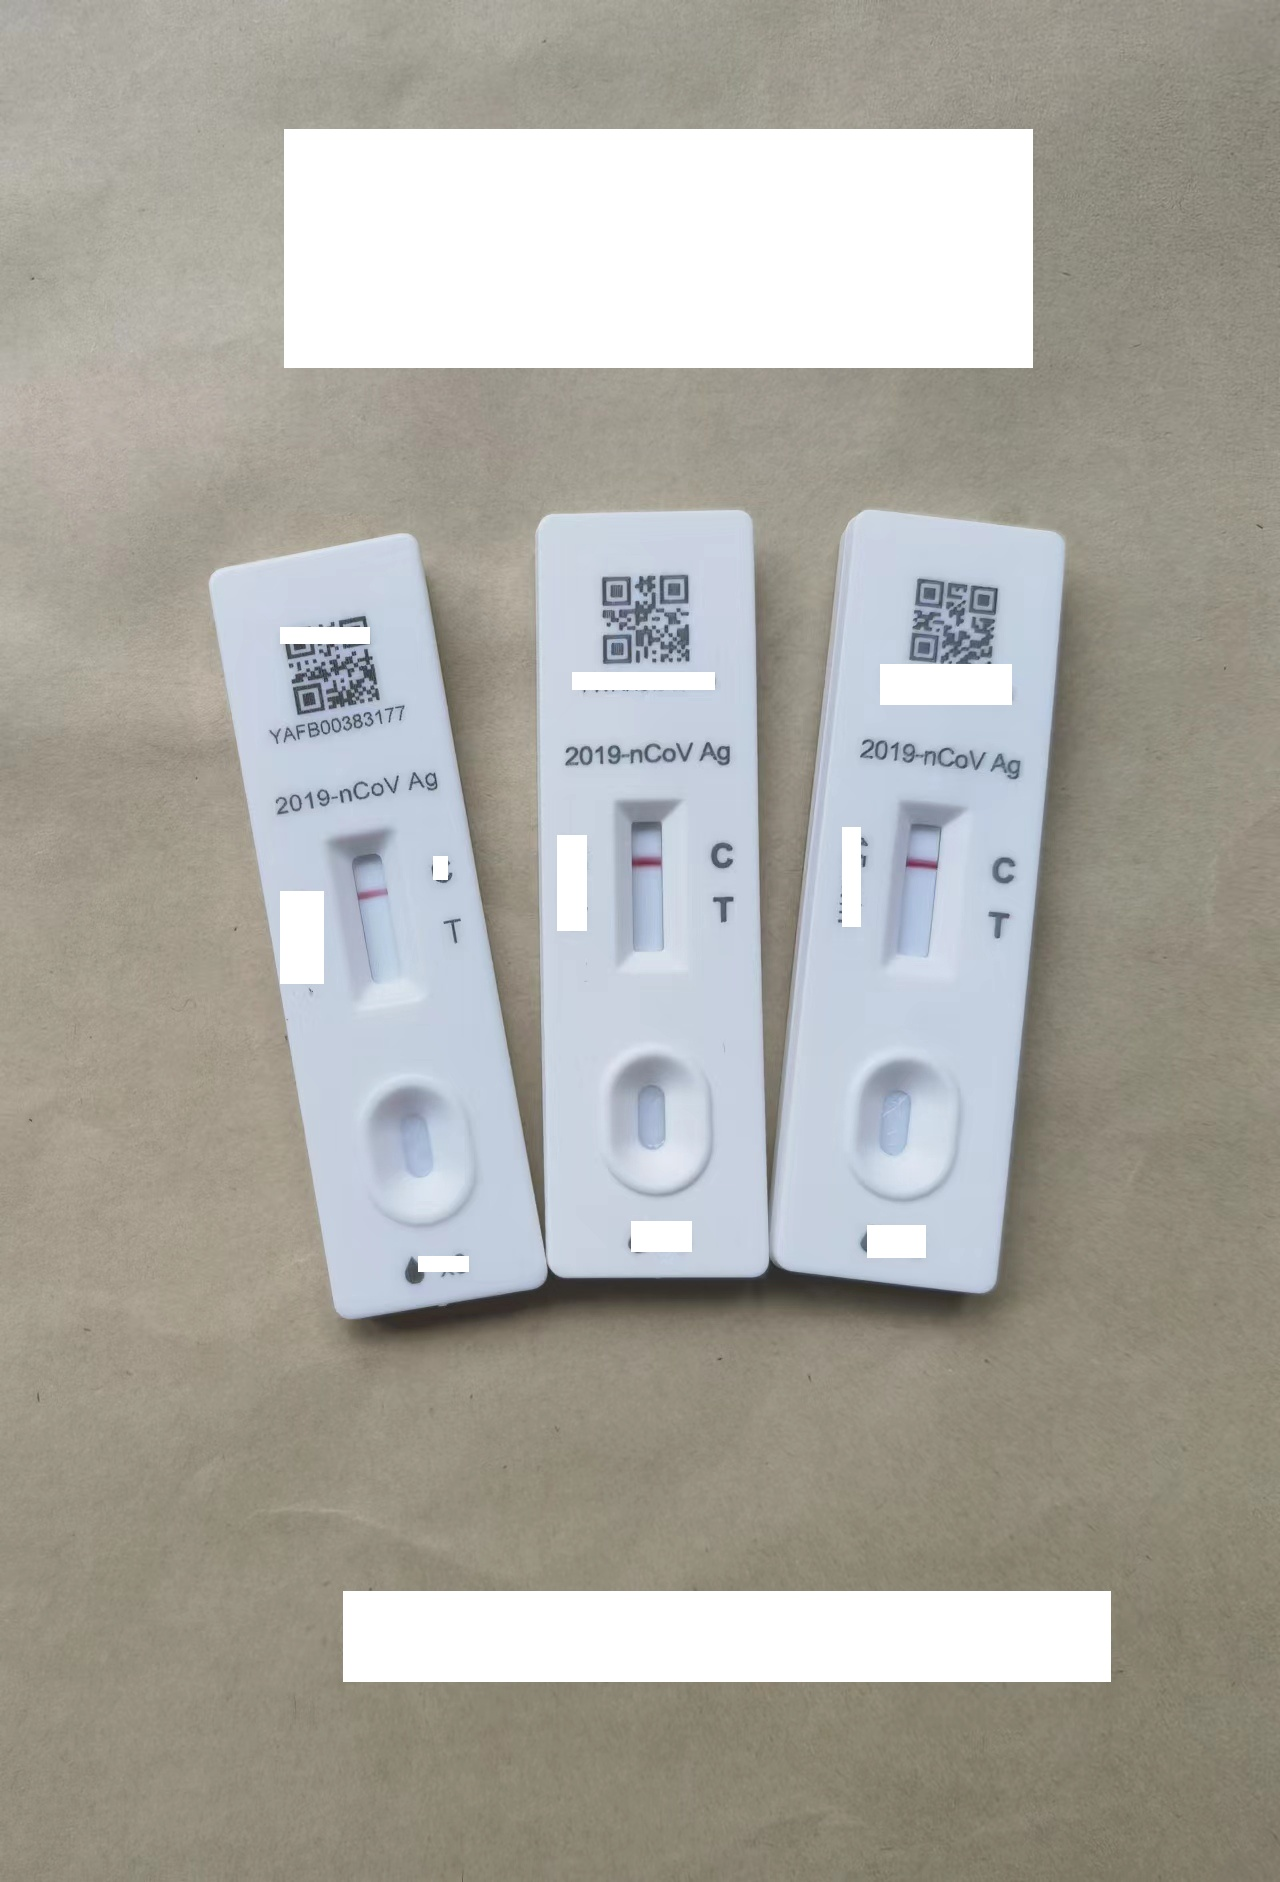negative: (324, 830, 413, 1005), (883, 798, 967, 970), (613, 794, 679, 967)
